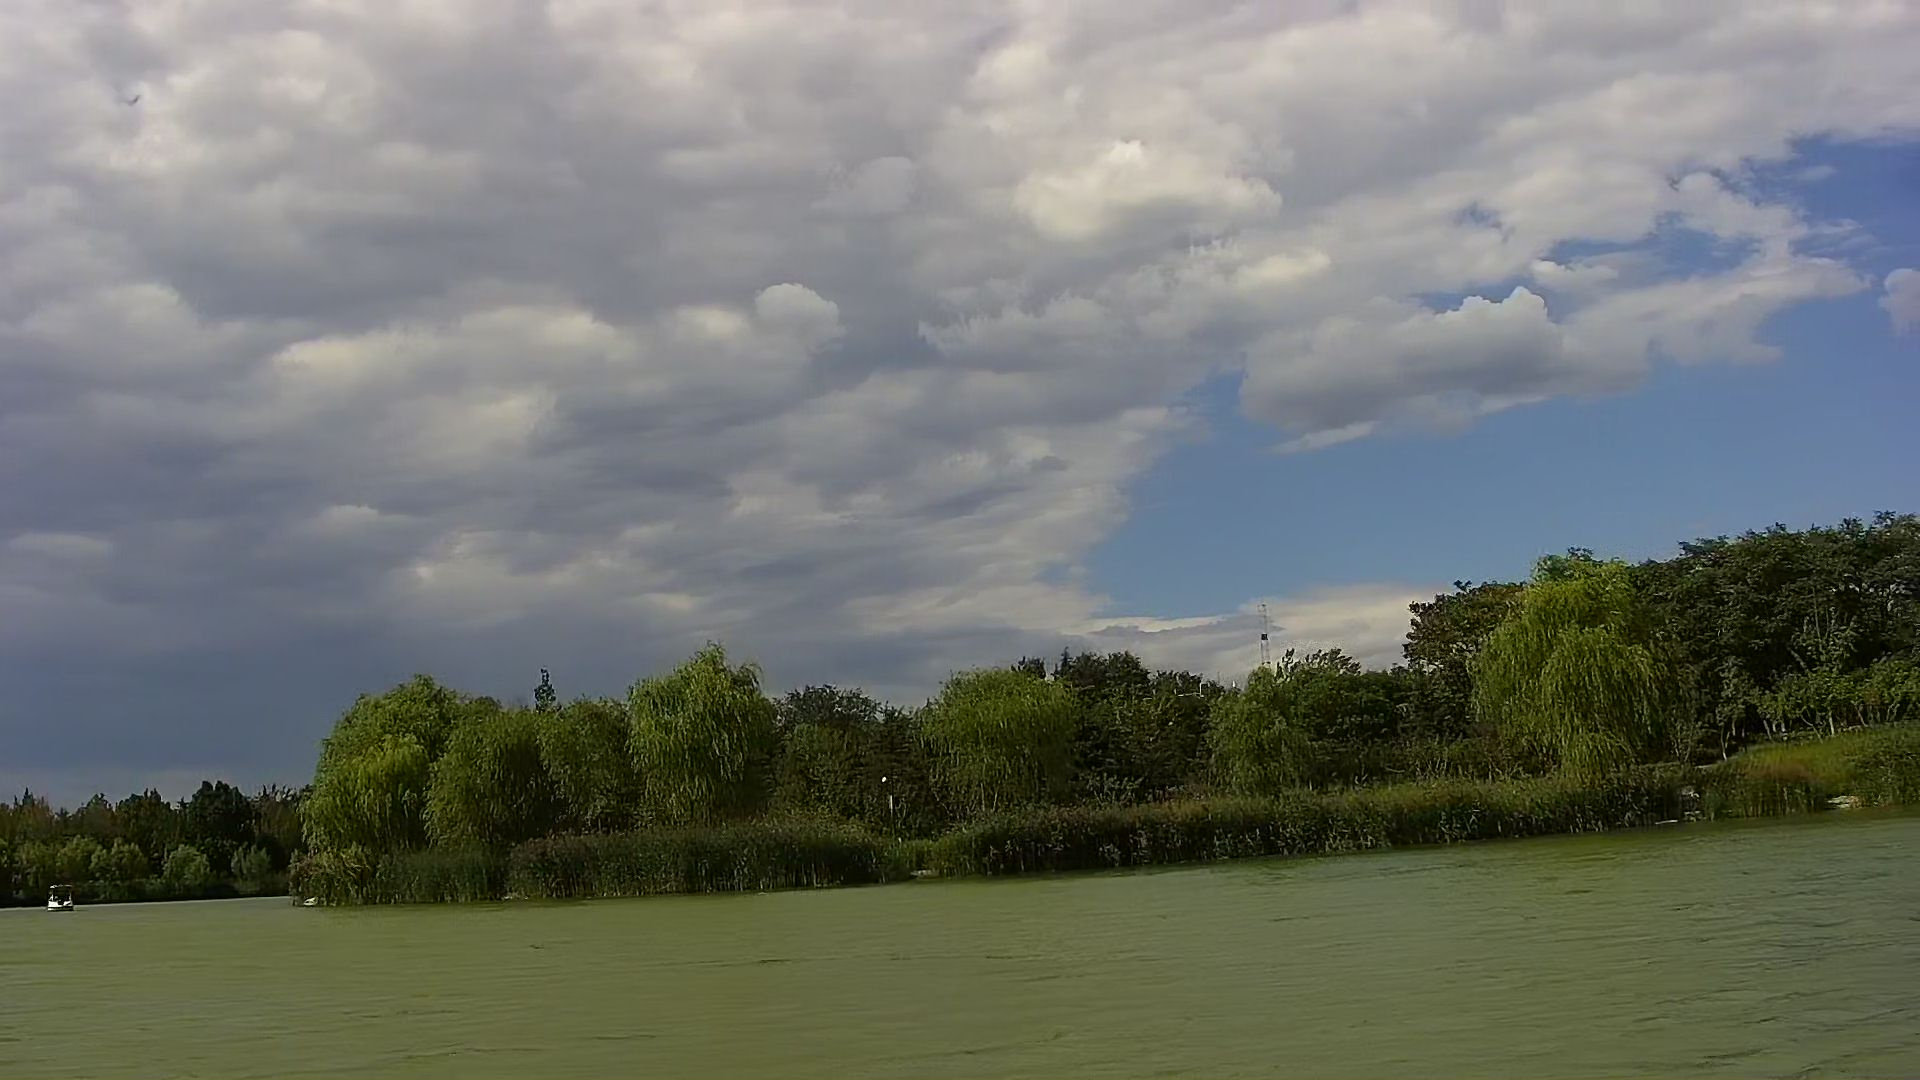boat: (44, 884, 74, 913)
rock: (1825, 789, 1867, 818)
